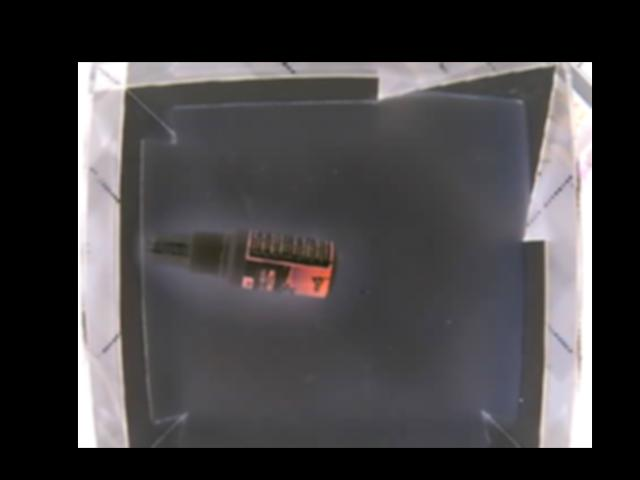Bottle: (148, 230, 334, 299)
